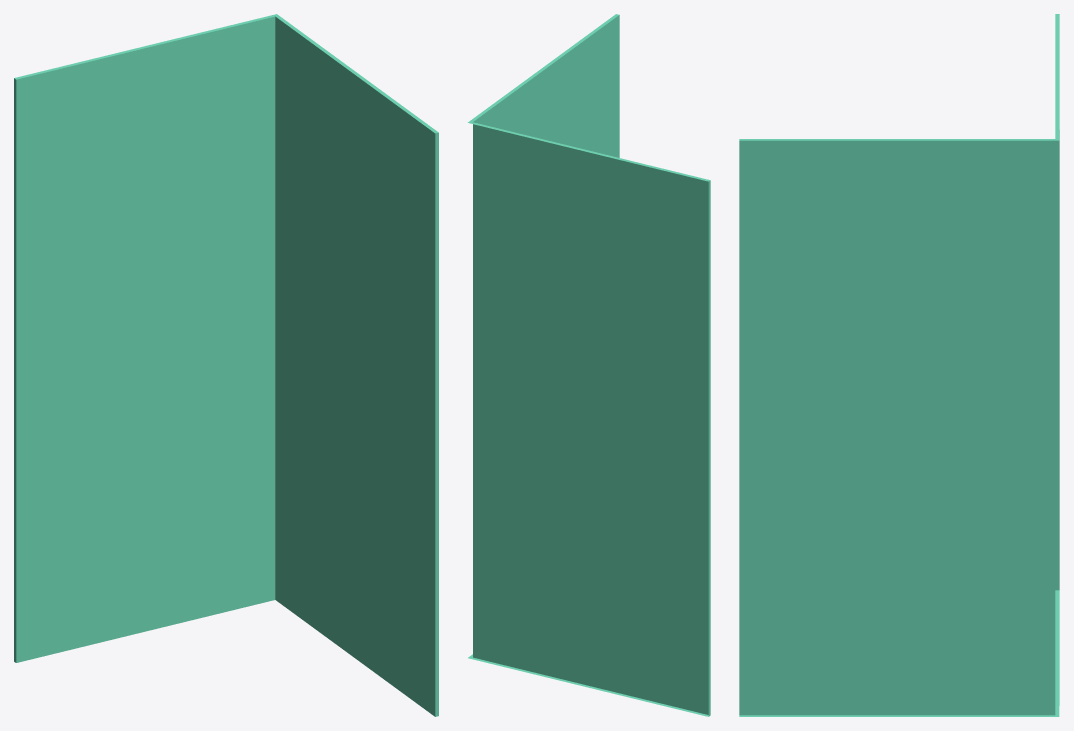
The model's file is Espejo Esquina.fbx.
The picture shows the model from 3 angles, left to right: view 1: azimuth 30°, elevation 25°; view 2: azimuth 150°, elevation 25°; view 3: azimuth 270°, elevation 25°; orthographic projection. The views are drawn at different scales.
Parts seen in each view (by area): view 1: EspejoEsquina; view 2: EspejoEsquina; view 3: EspejoEsquina.
Boxes of the visible parts, x1,y1,x2,y2 form: EspejoEsquina: (14,14,438,716); EspejoEsquina: (468,14,710,716); EspejoEsquina: (739,14,1059,716).
Bounding box in the file's own units: 0.7071 × 1.5 × 0.7552.
